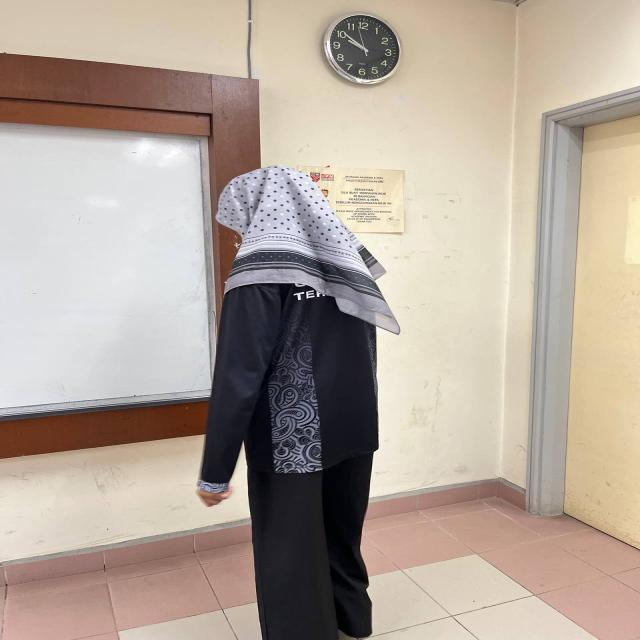person_without_labcoat: (197, 166, 399, 640)
